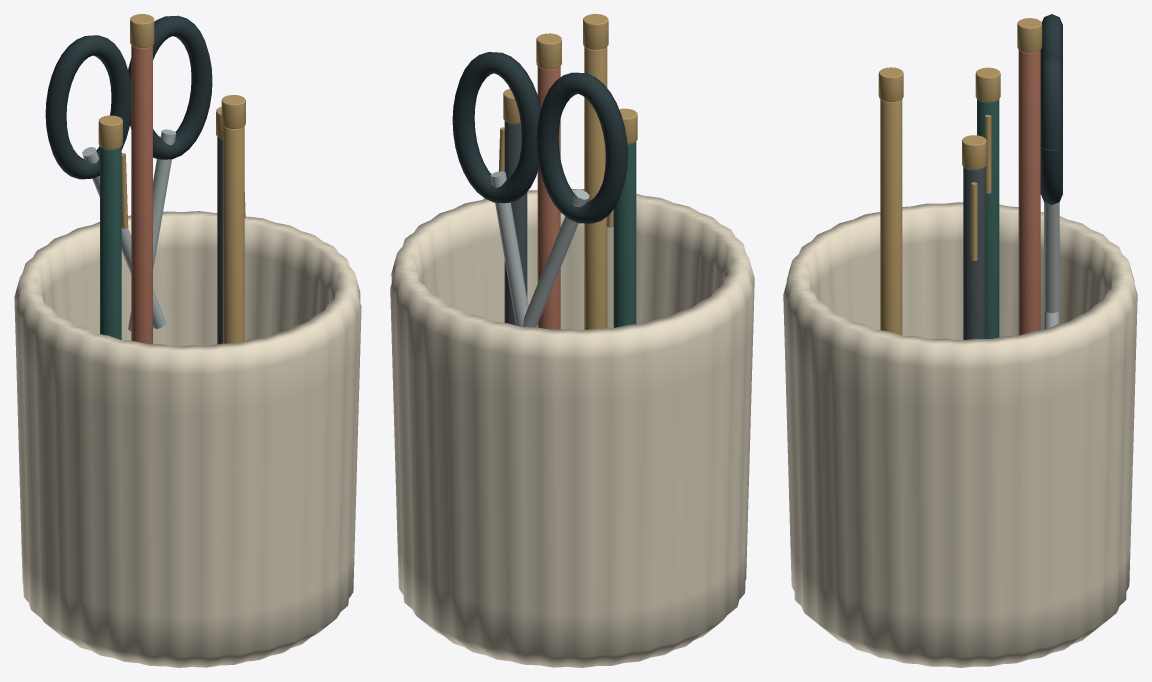
File: pencil_cup.glb
3 renders of one model, left to right at view 1: azimuth 30°, elevation 25°; view 2: azimuth 150°, elevation 25°; view 3: azimuth 270°, elevation 25°, orthographic. The views are drawn at different scales.
Visible parts, largest first — view 1: Ceramic_chalk, Charcoal_soft, Brass_satin, Linen_rust, Enamel_pine, Silver, Graphite; view 2: Ceramic_chalk, Charcoal_soft, Brass_satin, Silver, Enamel_pine, Linen_rust, Graphite; view 3: Ceramic_chalk, Brass_satin, Linen_rust, Charcoal_soft, Graphite, Enamel_pine, Silver.
Boxes of the visible parts, bbox=[...] form: Ceramic_chalk: bbox=[14, 211, 361, 667]; Charcoal_soft: bbox=[45, 15, 212, 179]; Brass_satin: bbox=[98, 14, 245, 343]; Linen_rust: bbox=[131, 45, 152, 344]; Enamel_pine: bbox=[100, 146, 121, 339]; Silver: bbox=[82, 129, 176, 330]; Graphite: bbox=[217, 137, 222, 344]; Ceramic_chalk: bbox=[390, 188, 754, 667]; Charcoal_soft: bbox=[452, 52, 627, 223]; Brass_satin: bbox=[498, 14, 637, 329]; Silver: bbox=[490, 171, 589, 327]; Enamel_pine: bbox=[613, 141, 636, 327]; Linen_rust: bbox=[537, 66, 560, 329]; Graphite: bbox=[504, 121, 527, 325]; Ceramic_chalk: bbox=[783, 202, 1137, 667]; Brass_satin: bbox=[878, 18, 1042, 335]; Linen_rust: bbox=[1018, 50, 1040, 335]; Charcoal_soft: bbox=[1040, 14, 1062, 204]; Graphite: bbox=[963, 167, 985, 339]; Enamel_pine: bbox=[977, 99, 999, 338]; Silver: bbox=[1044, 202, 1059, 329].
Bounding box in the file's own units: 0.128 × 0.23 × 0.128.
